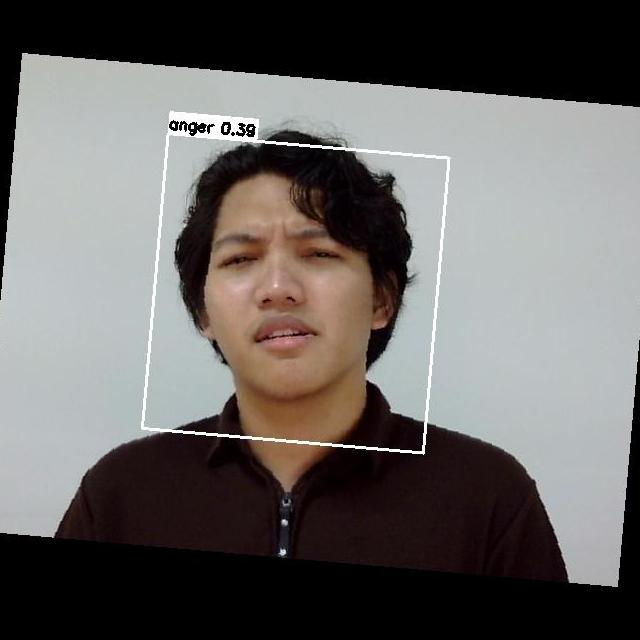Sad: (198, 203, 386, 387)
